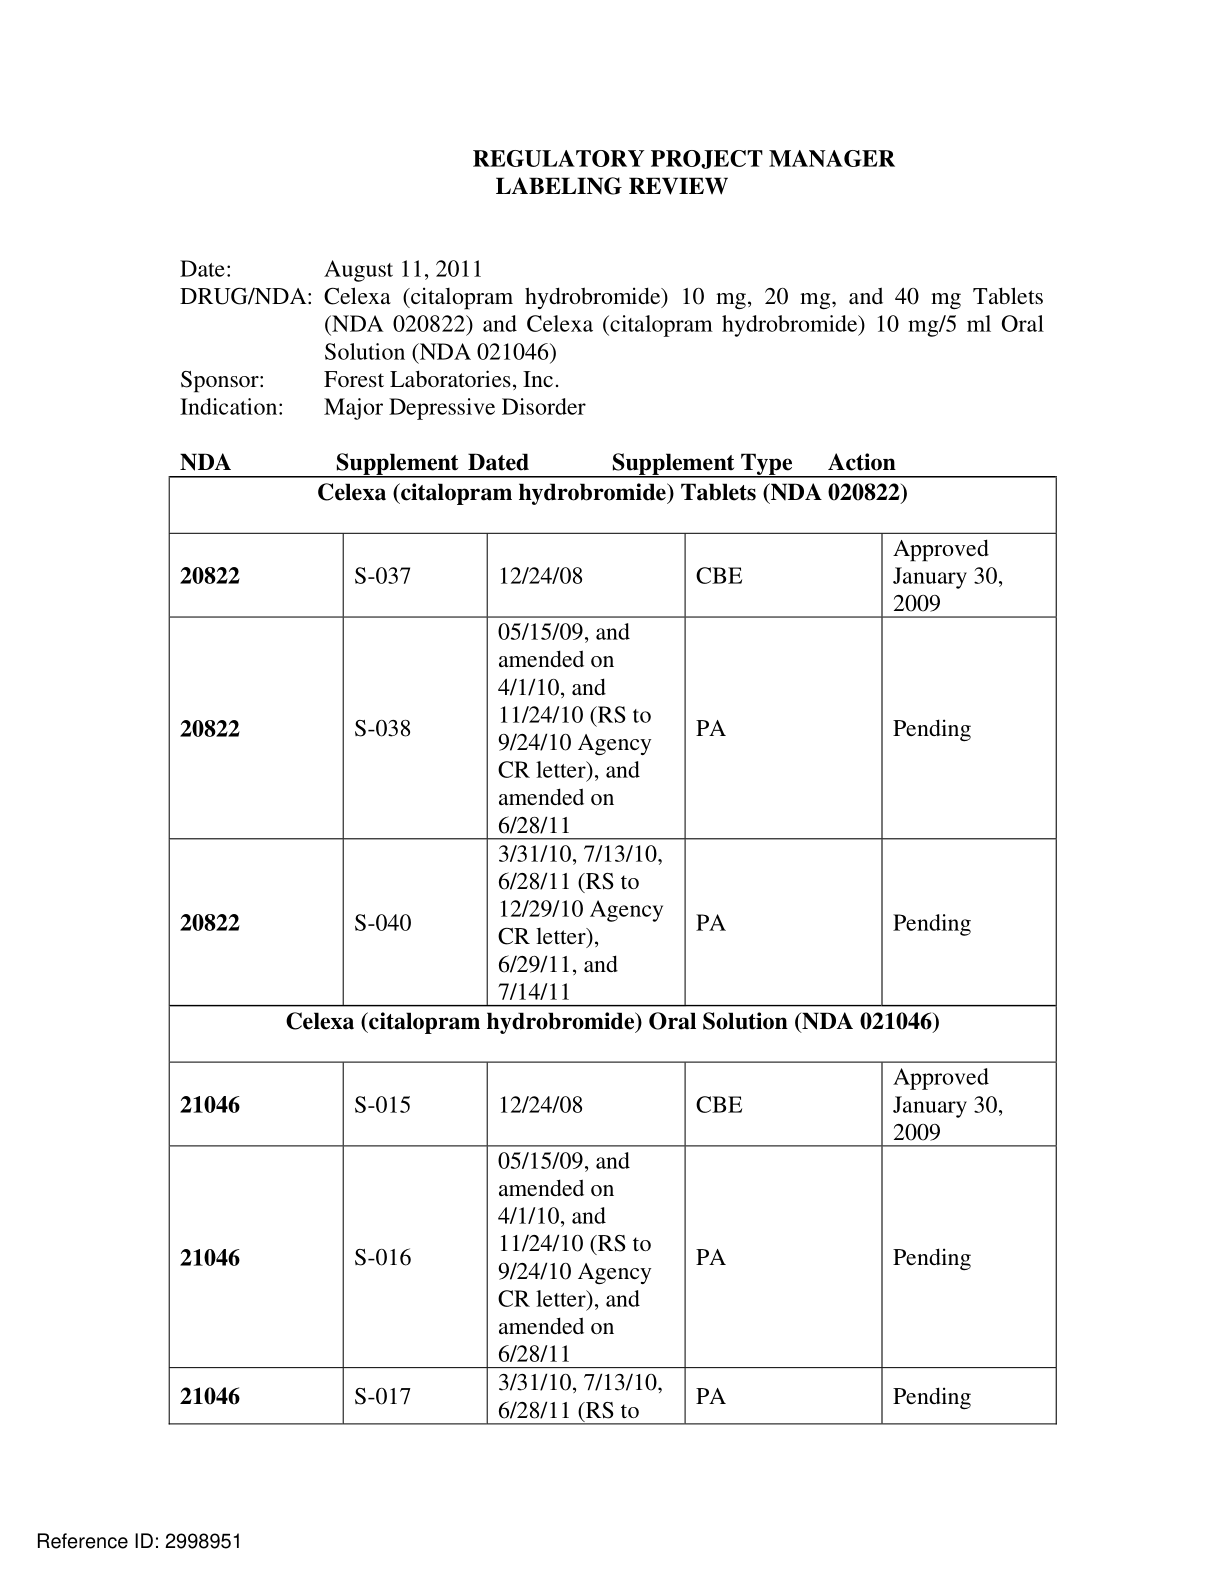partial_lined_merged_cells: (166, 473, 1059, 1428)
